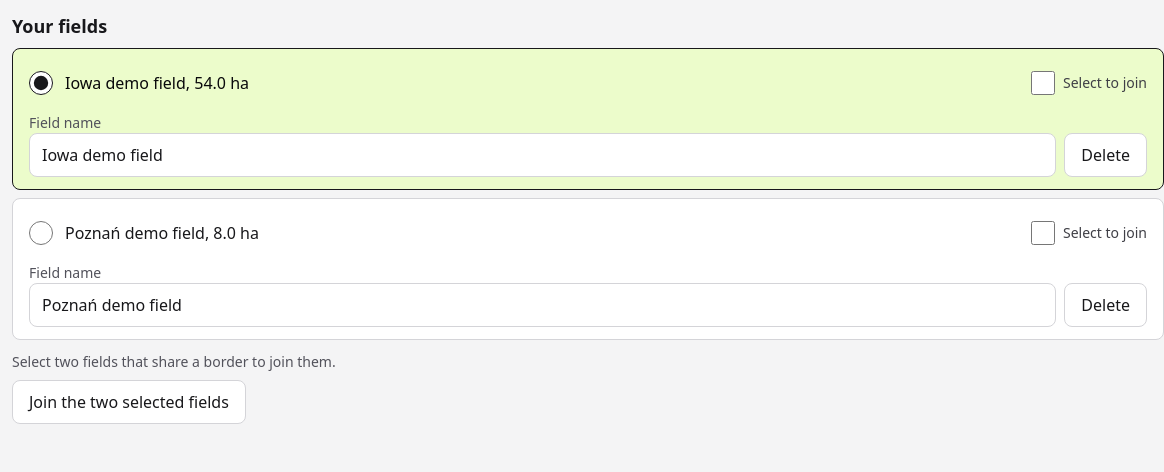
Scenario: FieldList joining › explains why two fields cannot be joined and leaves them as they are
Click the checkbox labelled "Select to join" in the row of "Iowa demo field, 54.0 ha".
click(1043, 83)  # box [1031,71,1055,95]
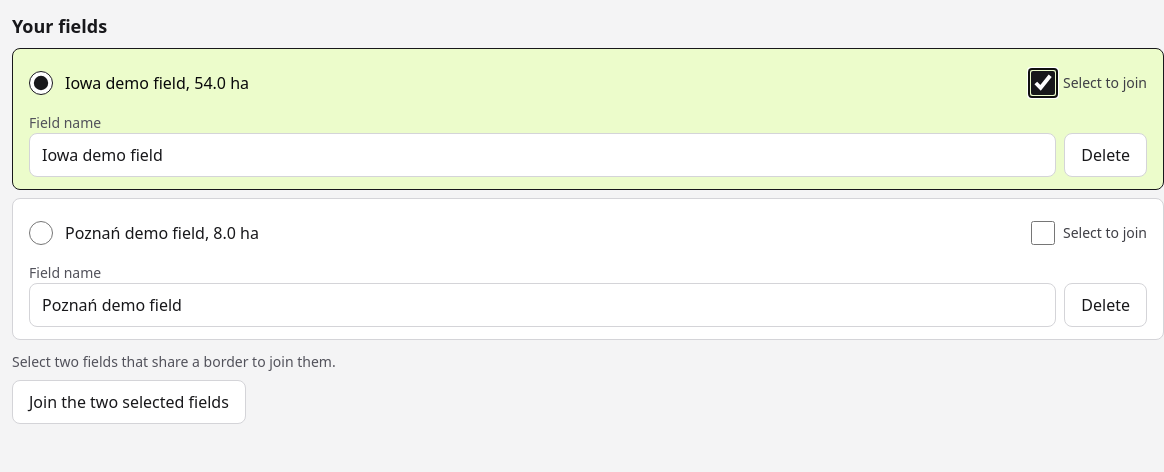
Click the checkbox labelled "Select to join" in the row of "Poznań demo field, 8.0 ha".
click(1043, 233)  # box [1031,221,1055,245]
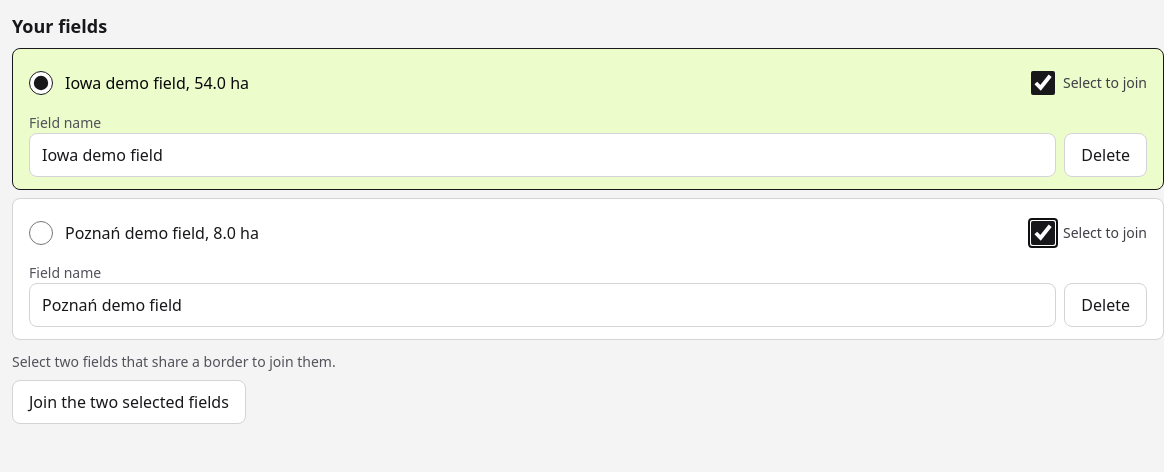
Click the button "Join the two selected fields".
click(129, 402)  # box [12,380,246,424]
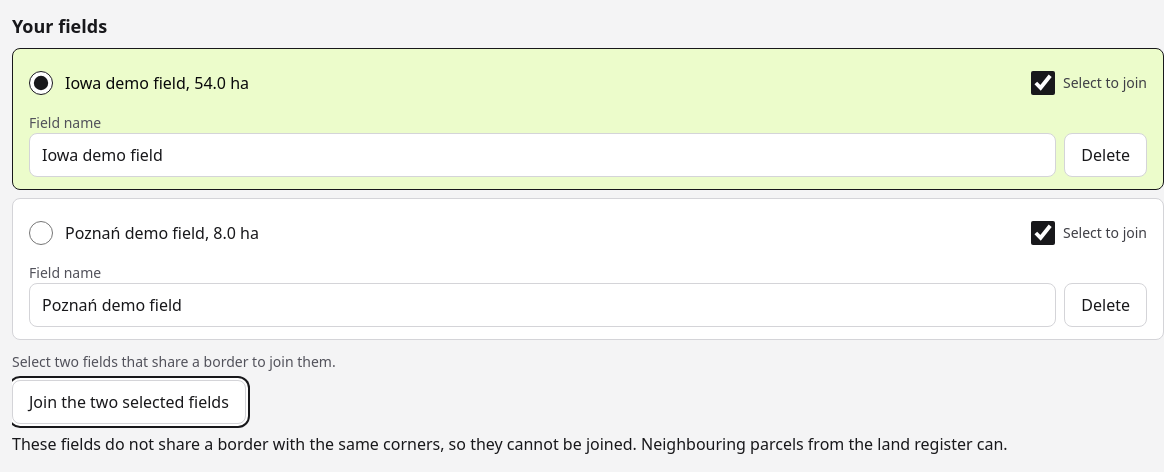
Result: the text "These fields do not share a border with the same corners, so they cannot be joined. Neighbouring parcels from the land r" is shown at [12,433,1008,455]
